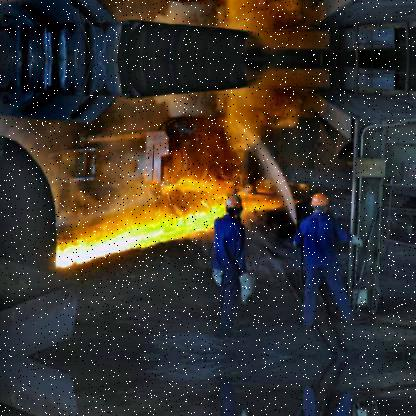Helmet: (224, 190, 248, 223), (310, 190, 330, 218)
